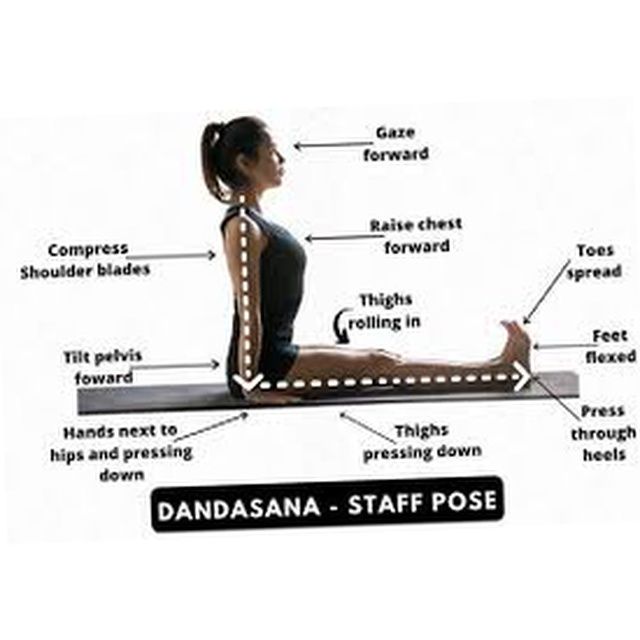Staff_Pose: (200, 114, 535, 407)
